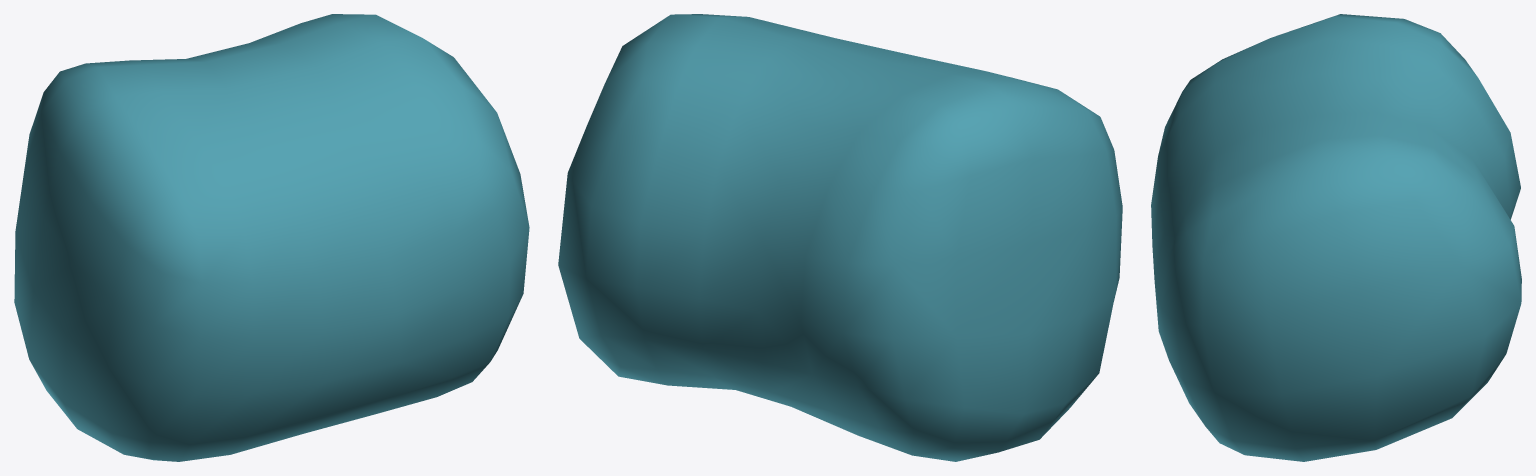
The model's file is VIS_Alpha_Surface_026.dae.
The picture shows the model from 3 angles, left to right: view 1: azimuth 30°, elevation 25°; view 2: azimuth 150°, elevation 25°; view 3: azimuth 270°, elevation 25°; orthographic projection. The views are drawn at different scales.
Parts seen in each view (by area): view 1: VIS_Alpha_Surface_026; view 2: VIS_Alpha_Surface_026; view 3: VIS_Alpha_Surface_026.
Boxes of the visible parts, x1,y1,x2,y2 form: VIS_Alpha_Surface_026: (14,14,529,461); VIS_Alpha_Surface_026: (558,14,1122,461); VIS_Alpha_Surface_026: (1151,14,1521,461).
Bounding box in the file's own units: 0.0285 × 0.0225 × 0.0213.
